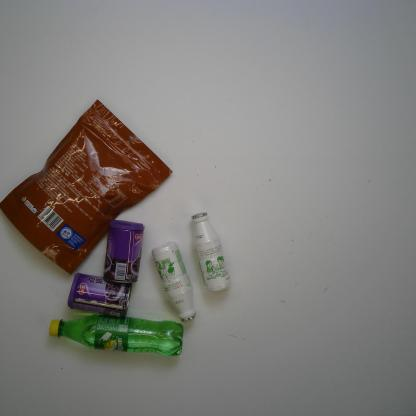Canned Food: (65, 272, 133, 319), (102, 218, 146, 285)
Dried Food: (0, 98, 175, 276)
Drink: (47, 312, 185, 358)
Milk: (150, 241, 198, 324), (190, 210, 232, 294)
